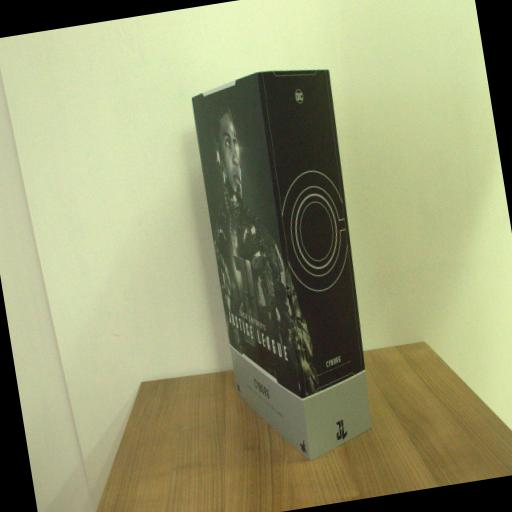Cyborg: (187, 58, 388, 468)
